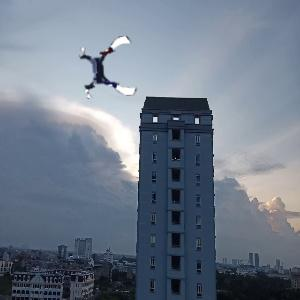drone: (78, 37, 141, 100)
